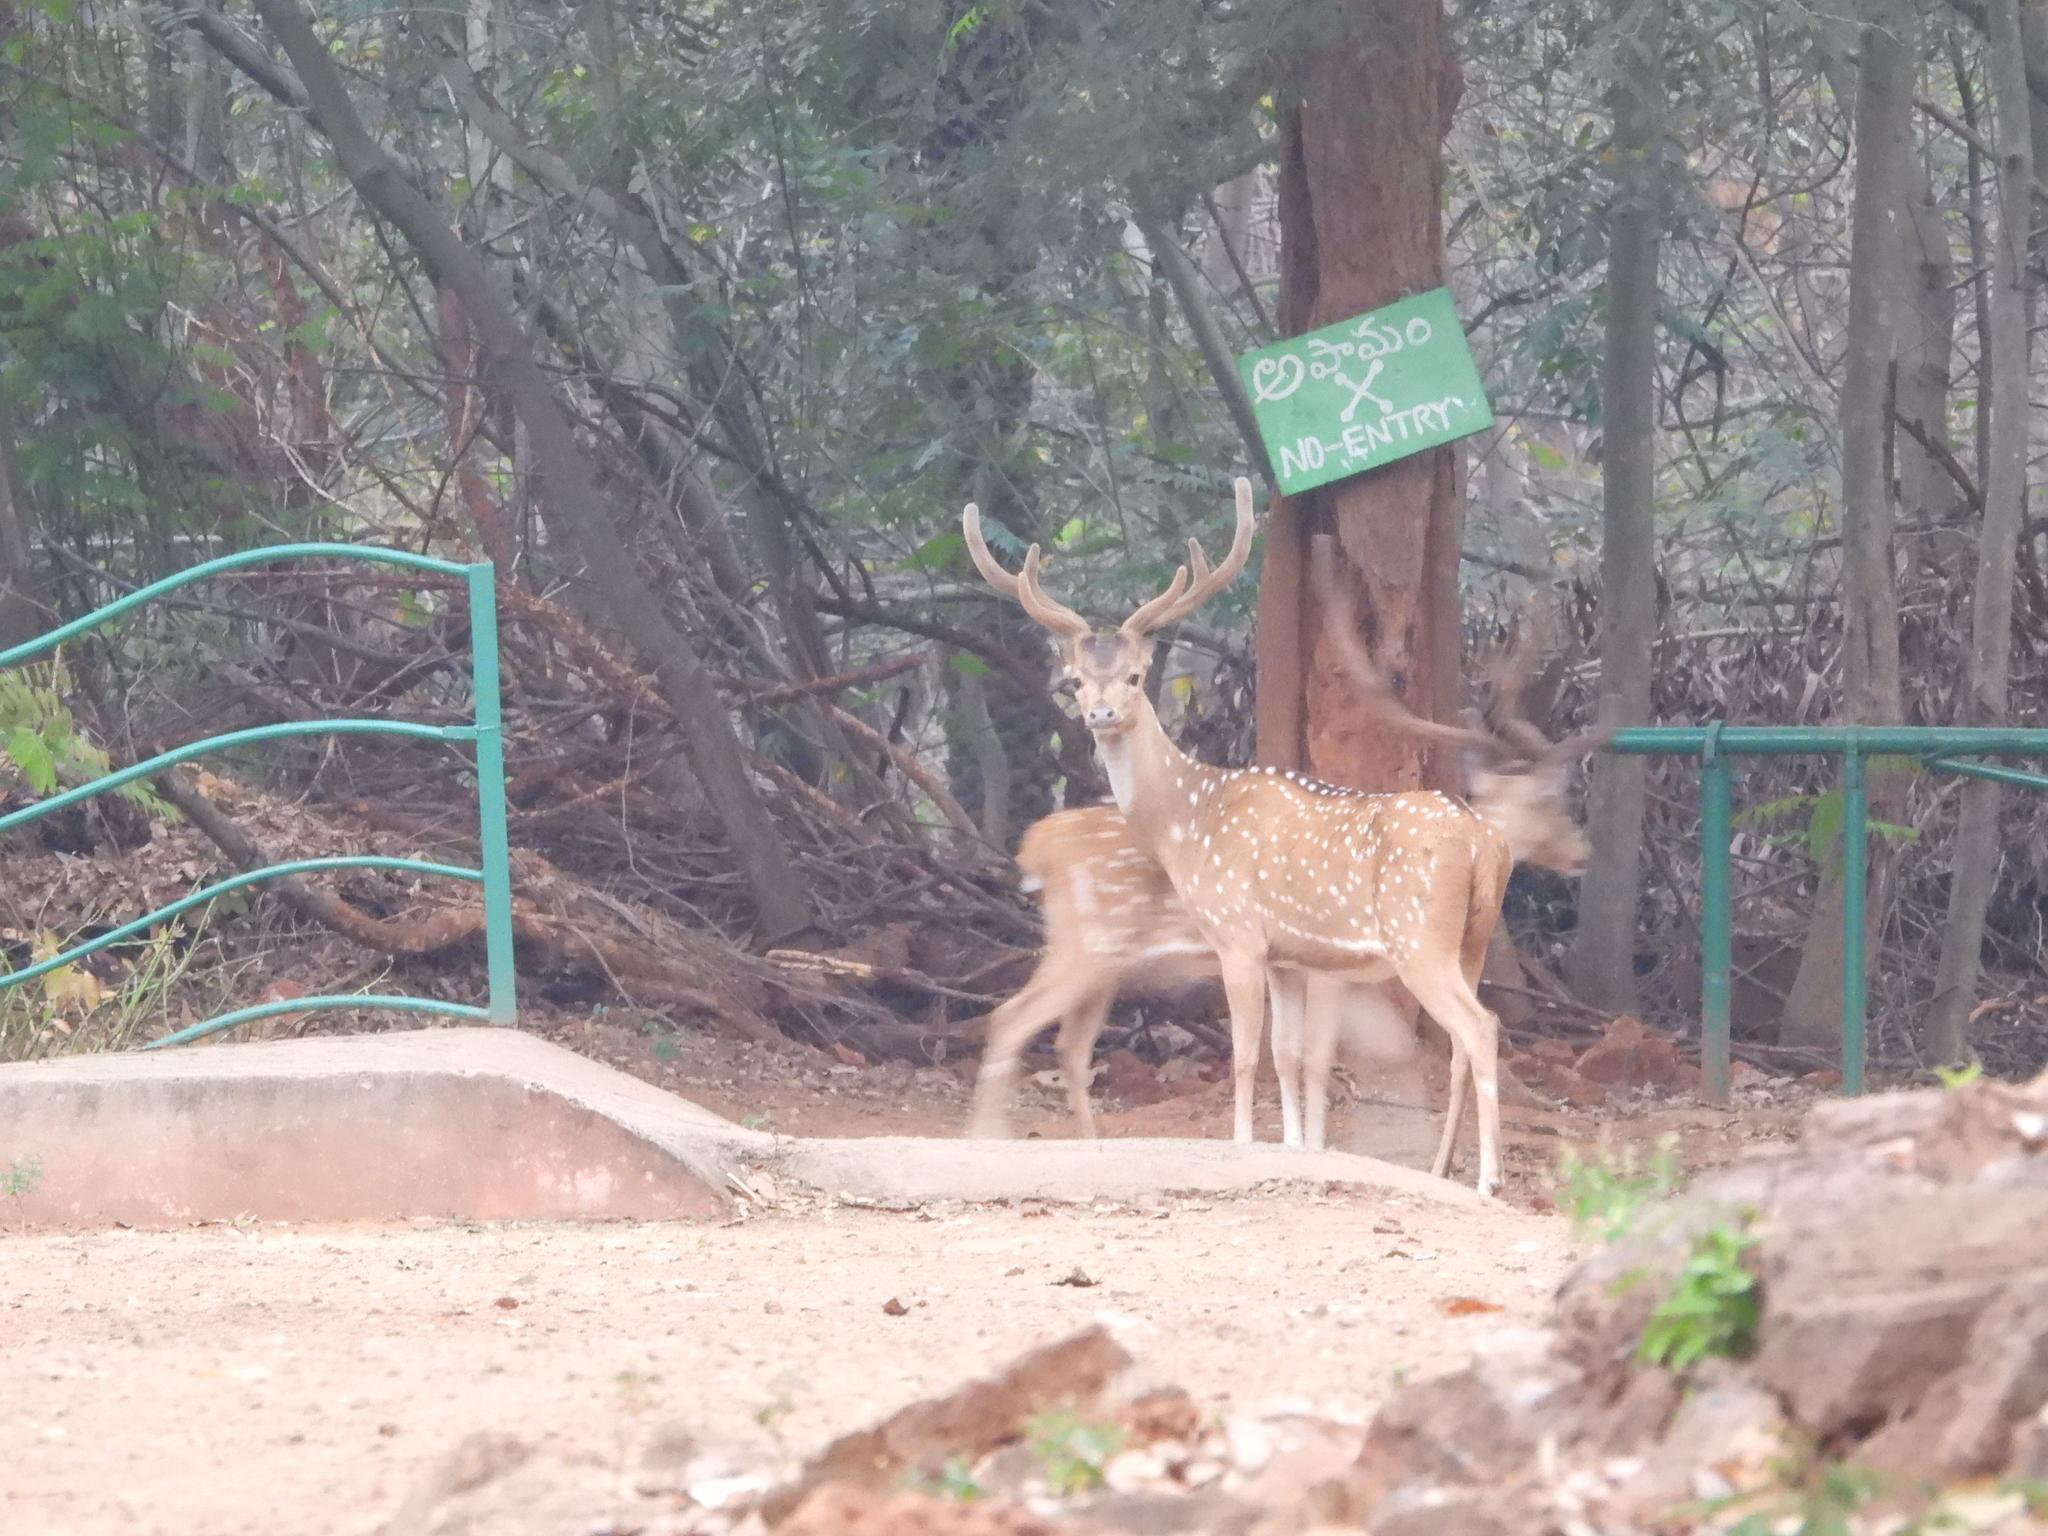Deer: (964, 478, 1511, 1196)
